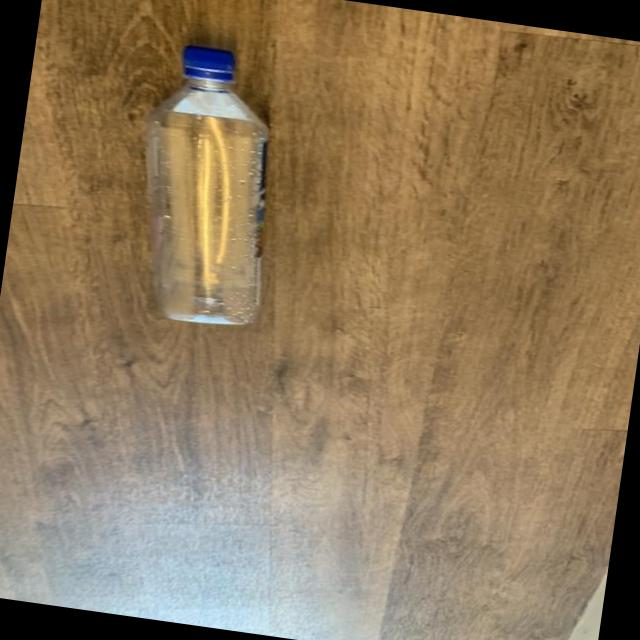plastic_bottle: (121, 40, 295, 331)
